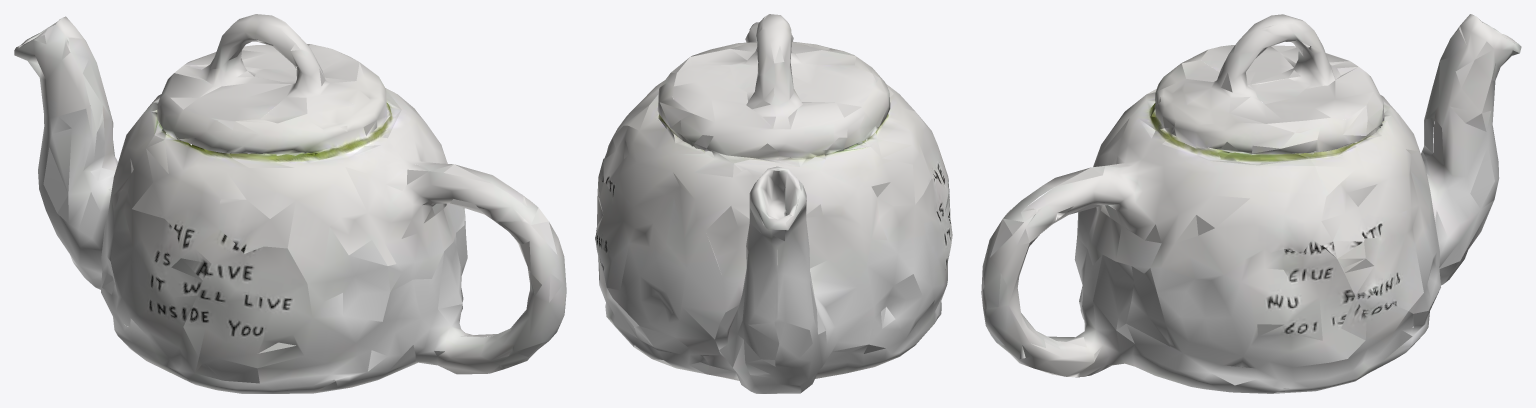
The model's file is 08_3_ds-ss_tat_teapot-opt-v52.glb.
3 views of the same model, side by side, from view 1: azimuth 30°, elevation 25°; view 2: azimuth 150°, elevation 25°; view 3: azimuth 270°, elevation 25° (orthographic).
Parts seen in each view (by area): view 1: tripo_material_9f536df9-35b4-46f4-8985-78ab2d59200f.003; view 2: tripo_material_9f536df9-35b4-46f4-8985-78ab2d59200f.003; view 3: tripo_material_9f536df9-35b4-46f4-8985-78ab2d59200f.003.
Part boxes in pixels (x1,y1,x2,y2): tripo_material_9f536df9-35b4-46f4-8985-78ab2d59200f.003: [14, 14, 566, 393]; tripo_material_9f536df9-35b4-46f4-8985-78ab2d59200f.003: [595, 14, 952, 393]; tripo_material_9f536df9-35b4-46f4-8985-78ab2d59200f.003: [981, 14, 1521, 393].
Bounding box in the file's own units: 0.1538 × 0.1441 × 0.227.
Materials: 1 (1 with a texture image).
